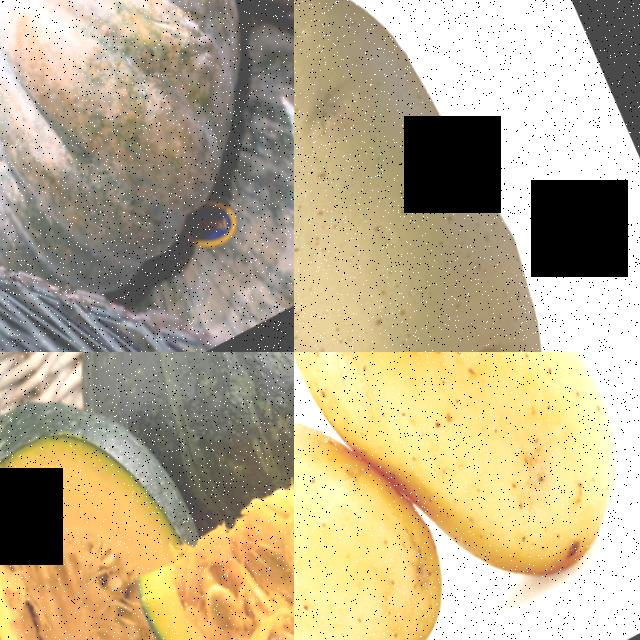potato: (294, 0, 640, 352), (294, 352, 640, 640), (294, 352, 494, 640)
pumpkin: (0, 0, 294, 352), (0, 362, 219, 640), (60, 352, 294, 550), (114, 441, 294, 640)
